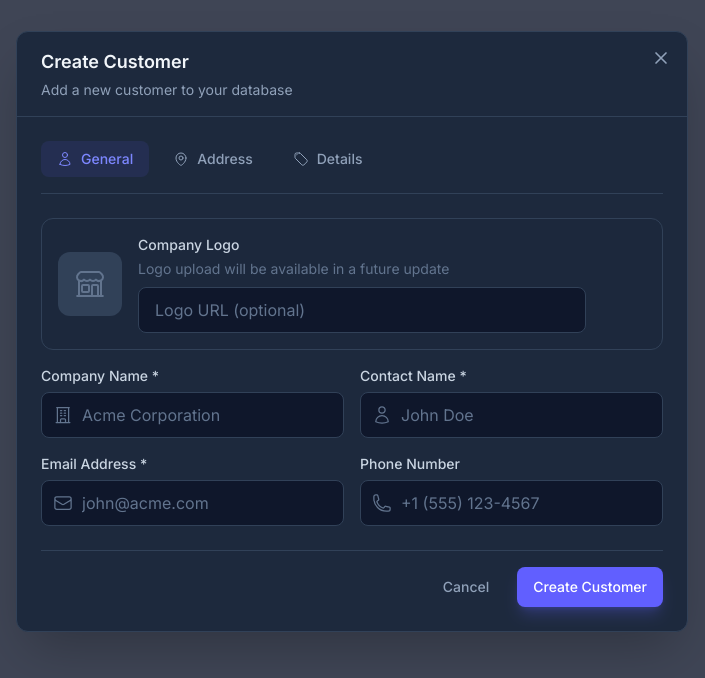
Test: CustomerForm › Details tab fields › renders tax ID input
Click the button "Details" at point(328, 158), box [277,140,378,176]
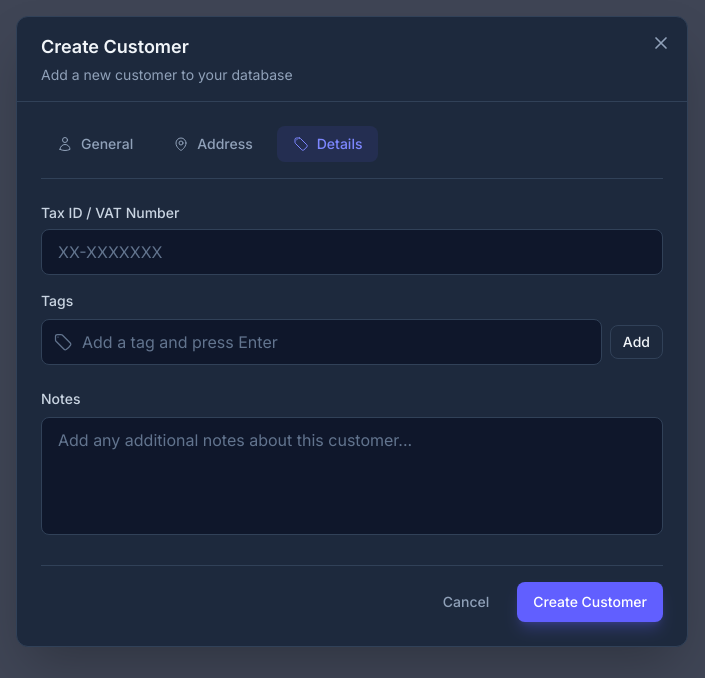
Check: the field labelled "Tax ID / VAT Number" is shown, box [41,228,663,274]
